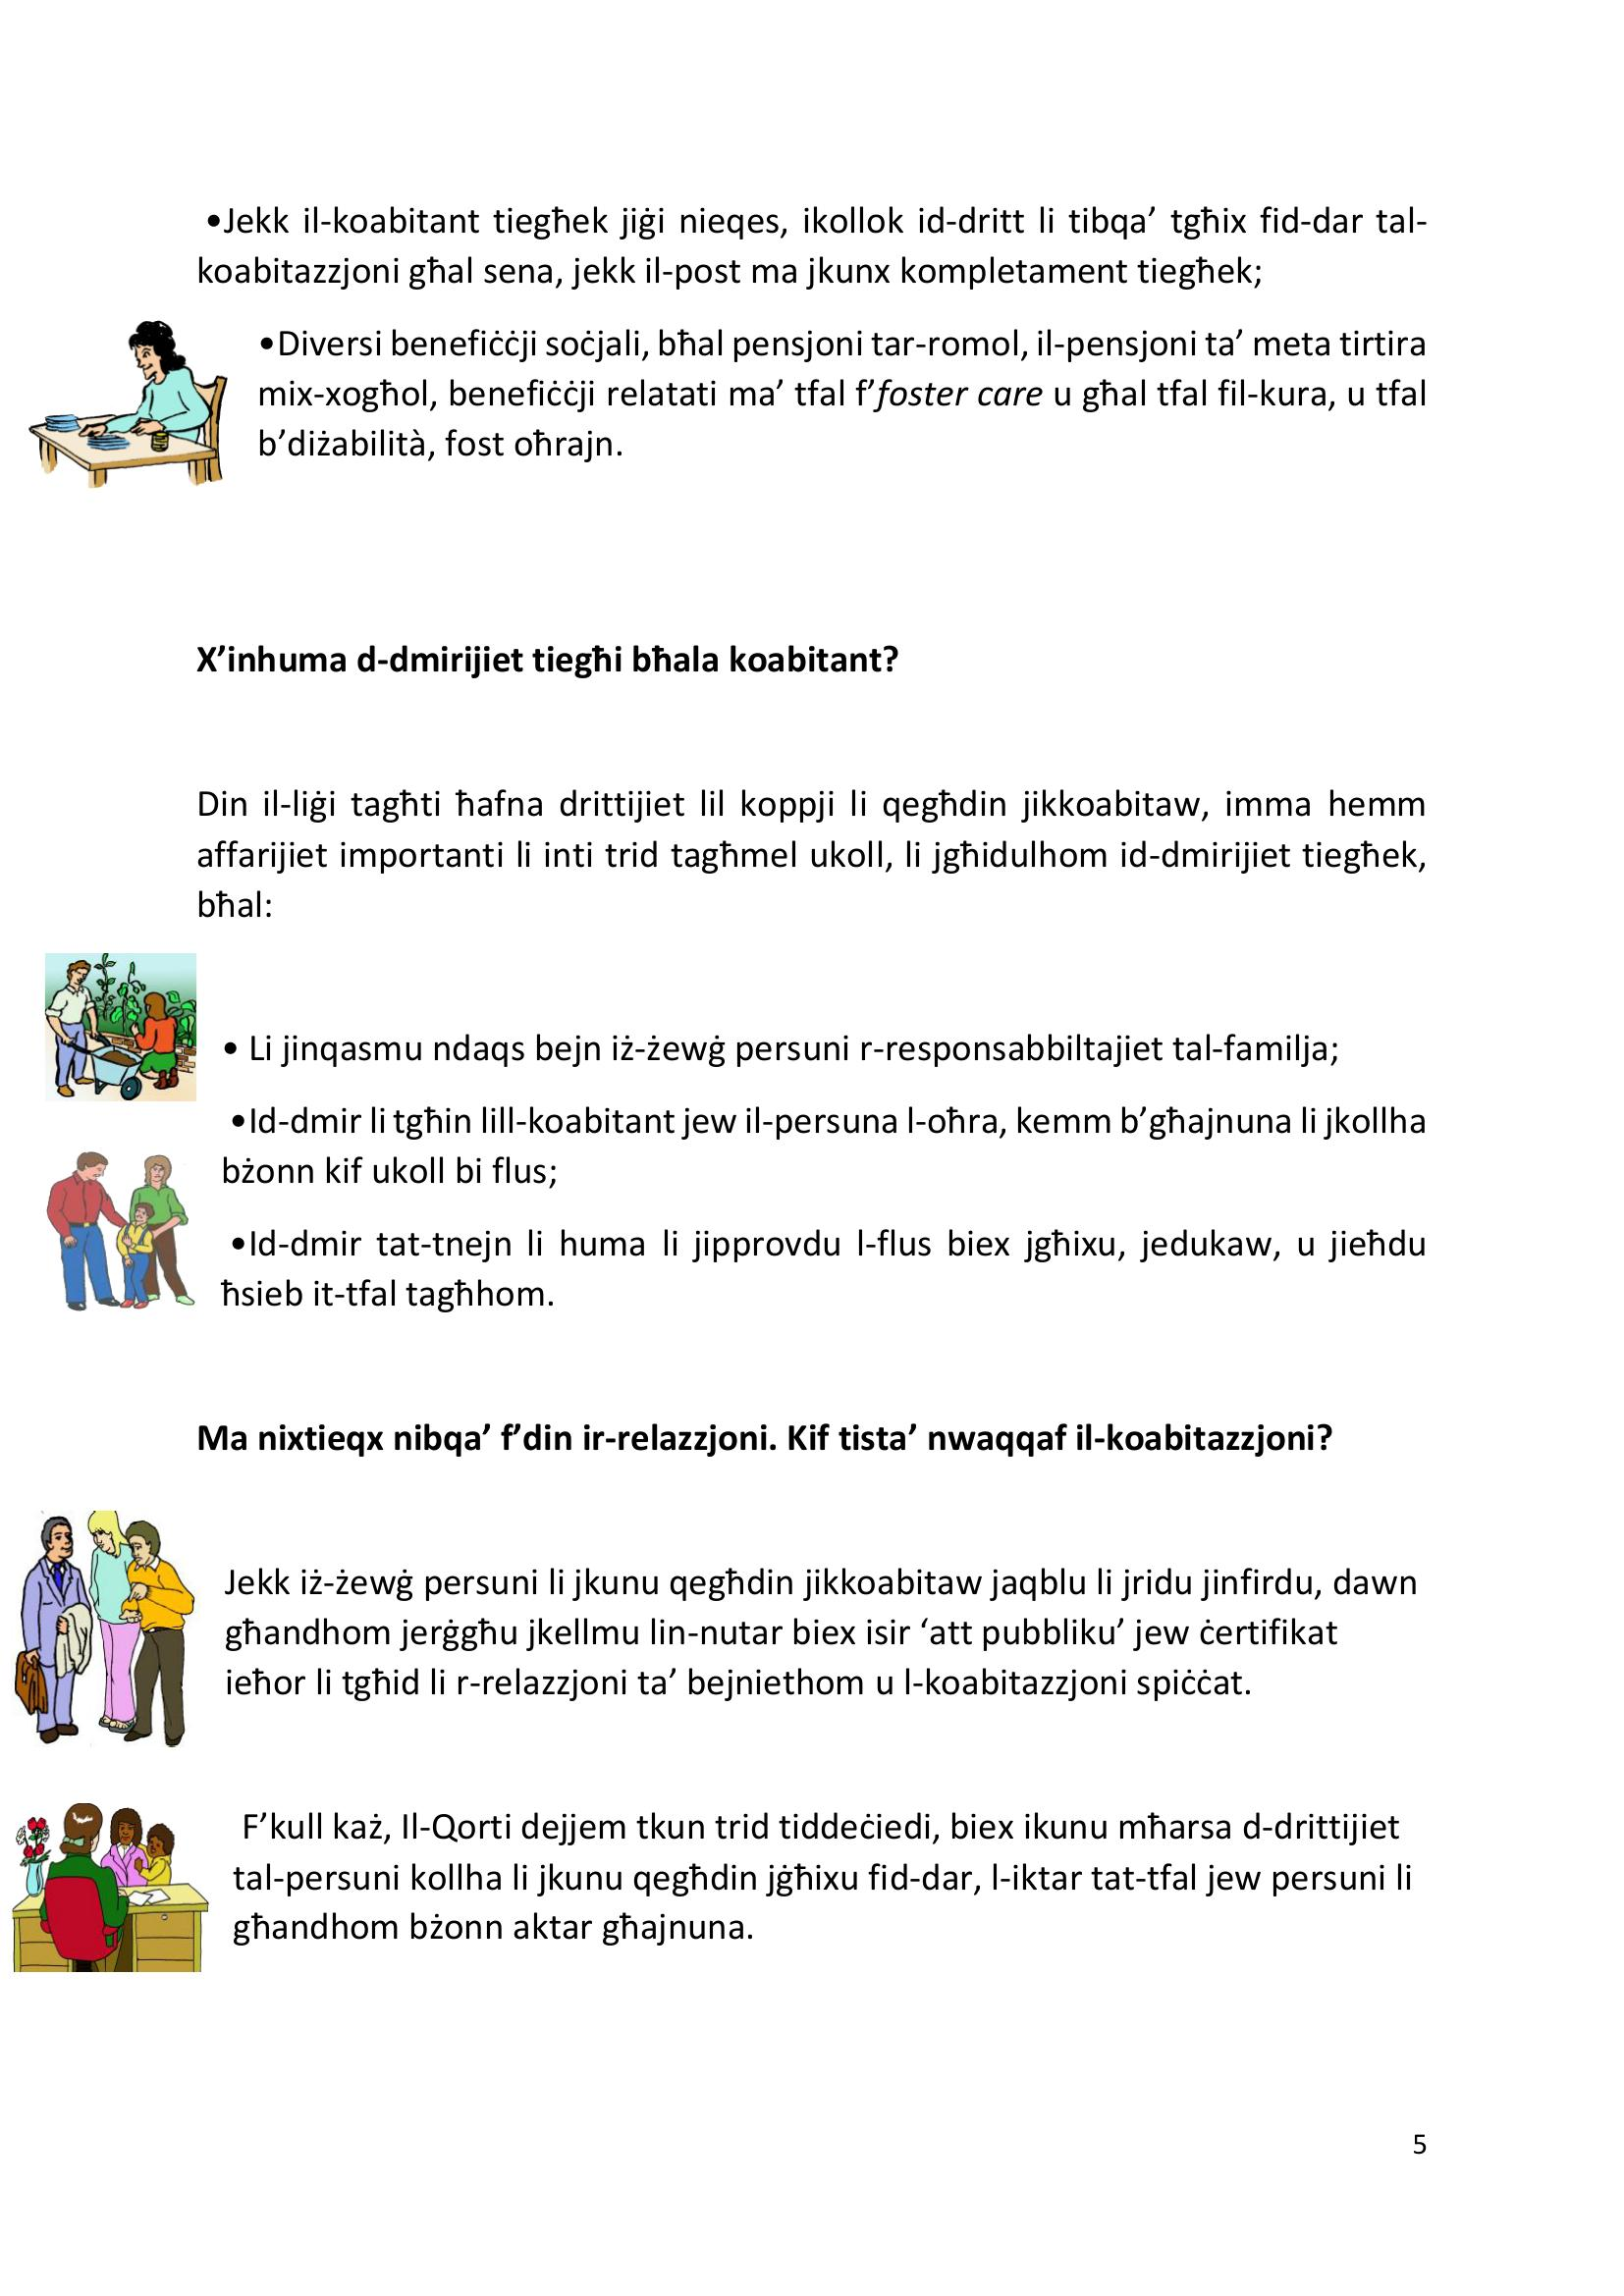text: (146, 183, 1471, 1983)
whiteout: (4, 1498, 214, 1997), (12, 938, 207, 1321), (11, 311, 239, 515)
